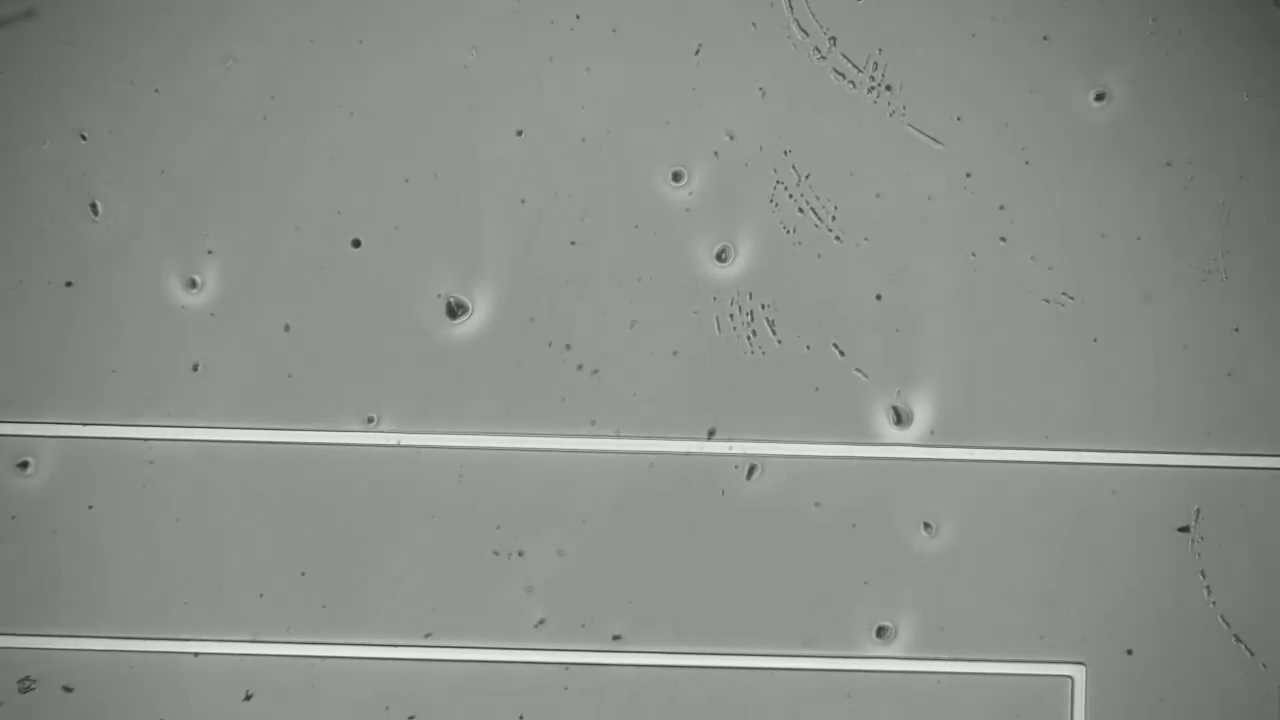scratch: (1188, 507, 1269, 684)
